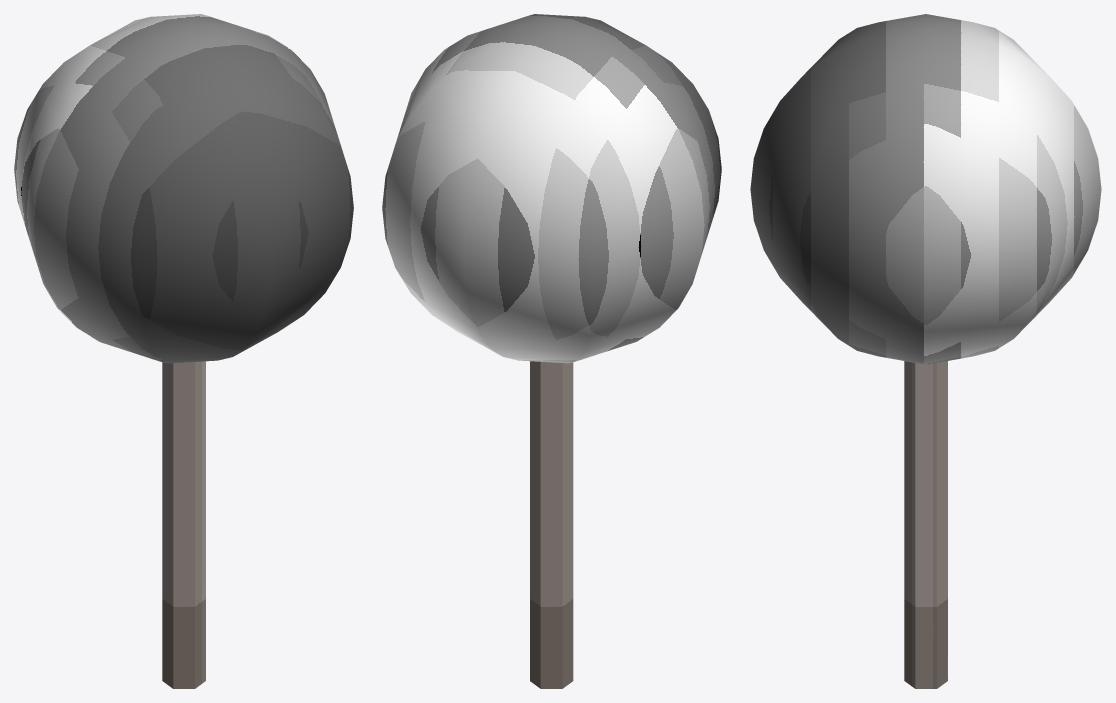
The model's file is 09_planetx06.gltf.
3 views of the same model, side by side, from view 1: azimuth 30°, elevation 25°; view 2: azimuth 150°, elevation 25°; view 3: azimuth 270°, elevation 25° (orthographic).
Visible parts, largest first — view 1: 09_planetx06; view 2: 09_planetx06; view 3: 09_planetx06.
Part boxes in pixels (x1,y1,x2,y2): 09_planetx06: (14, 14, 353, 688); 09_planetx06: (382, 14, 721, 688); 09_planetx06: (750, 14, 1101, 688).
Size of the model in its own units: 1.29 by 2.64 by 1.29.
2 materials, 2 textured.
